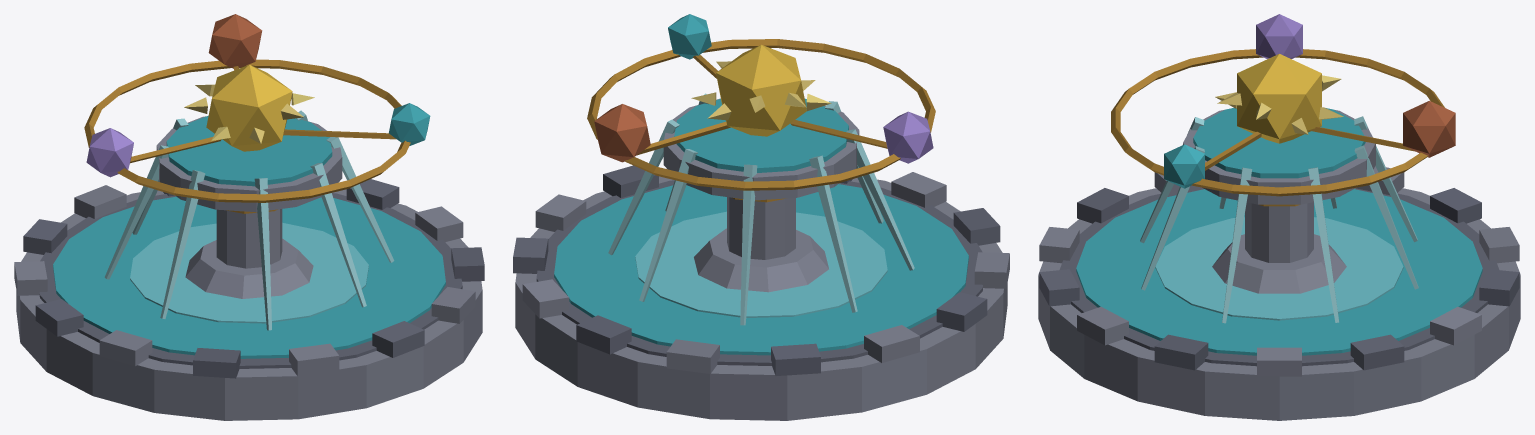
File: Decor_Observatory_Fountain.fbx
The picture shows the model from 3 angles, left to right: view 1: azimuth 30°, elevation 25°; view 2: azimuth 150°, elevation 25°; view 3: azimuth 270°, elevation 25°; orthographic projection. The views are drawn at different scales.
Visible parts, largest first — view 1: Fountain_Body; view 2: Fountain_Body; view 3: Fountain_Body.
Boxes of the visible parts, bbox=[...] form: Fountain_Body: bbox=[14, 14, 484, 420]; Fountain_Body: bbox=[513, 14, 1009, 420]; Fountain_Body: bbox=[1038, 14, 1520, 420].
Bounding box in the file's own units: 14 × 8.5 × 14.
